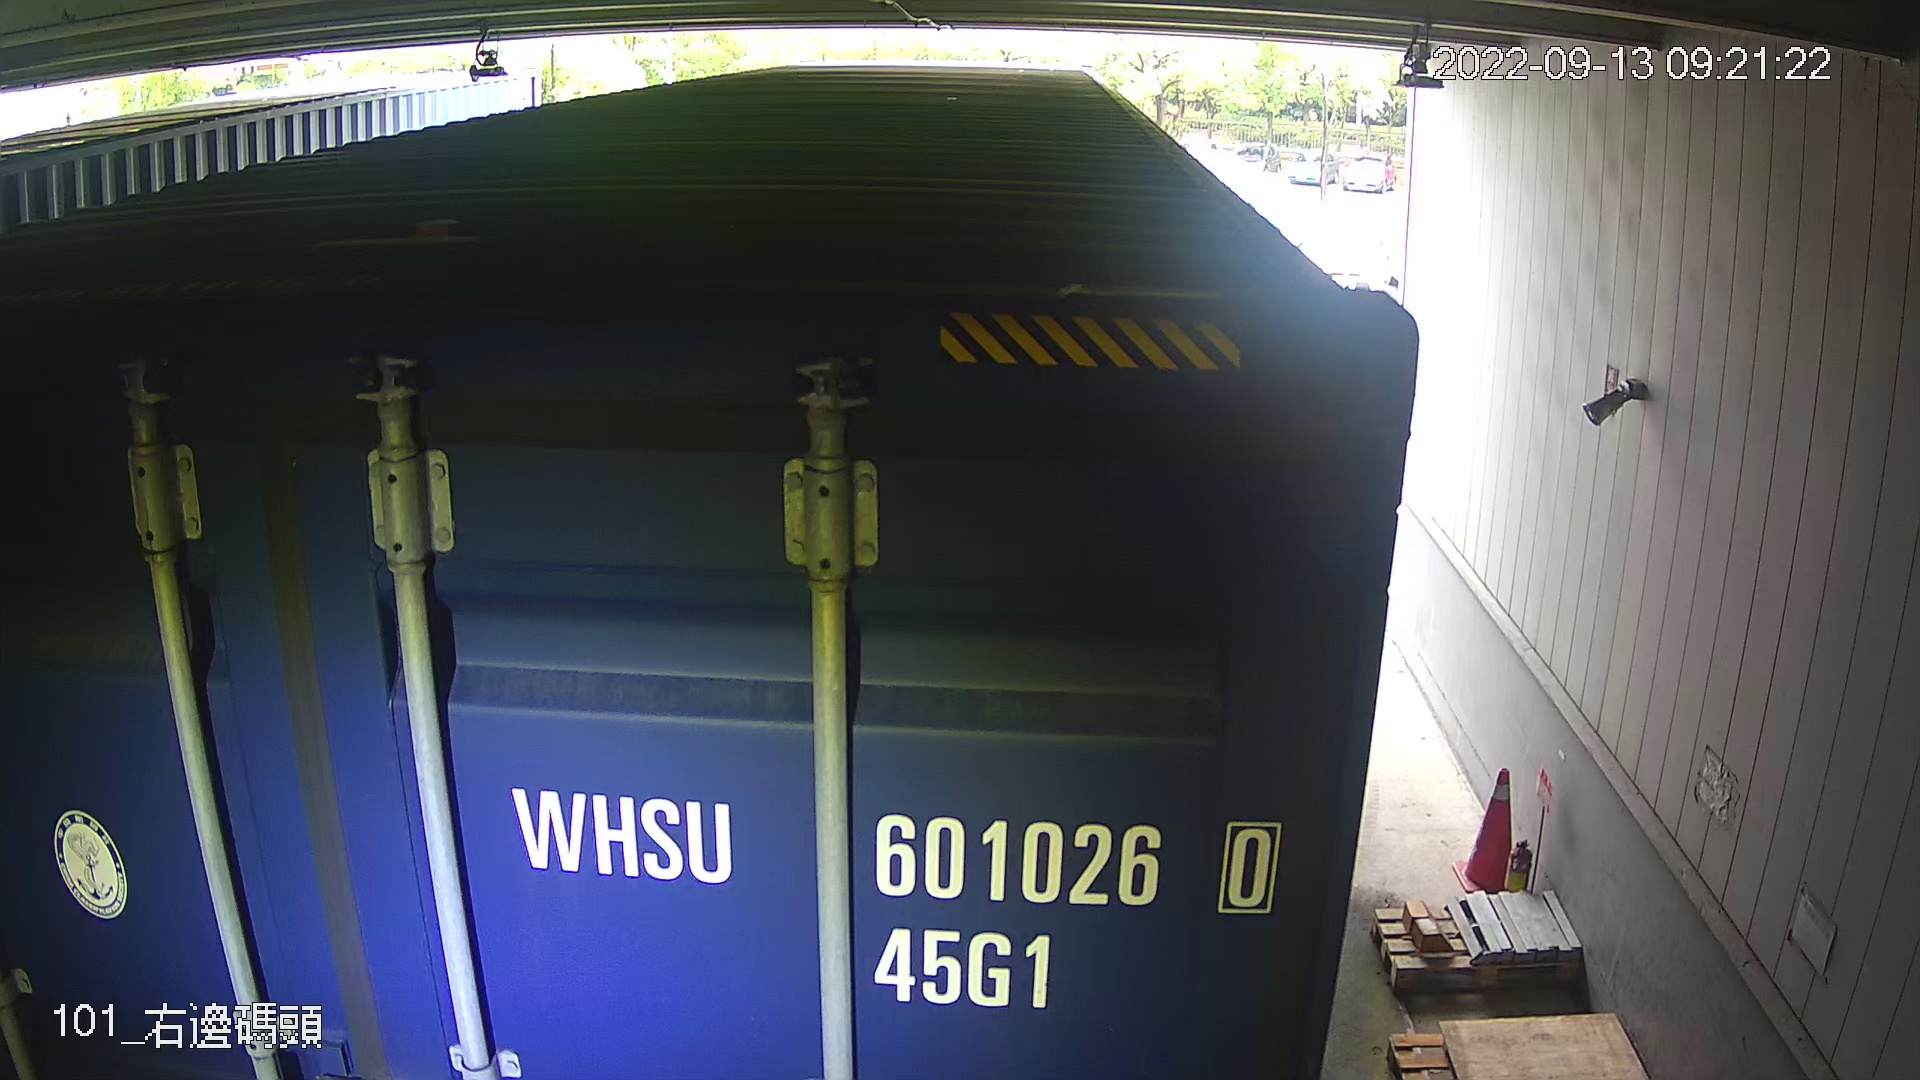container: (495, 766, 1303, 1021)
